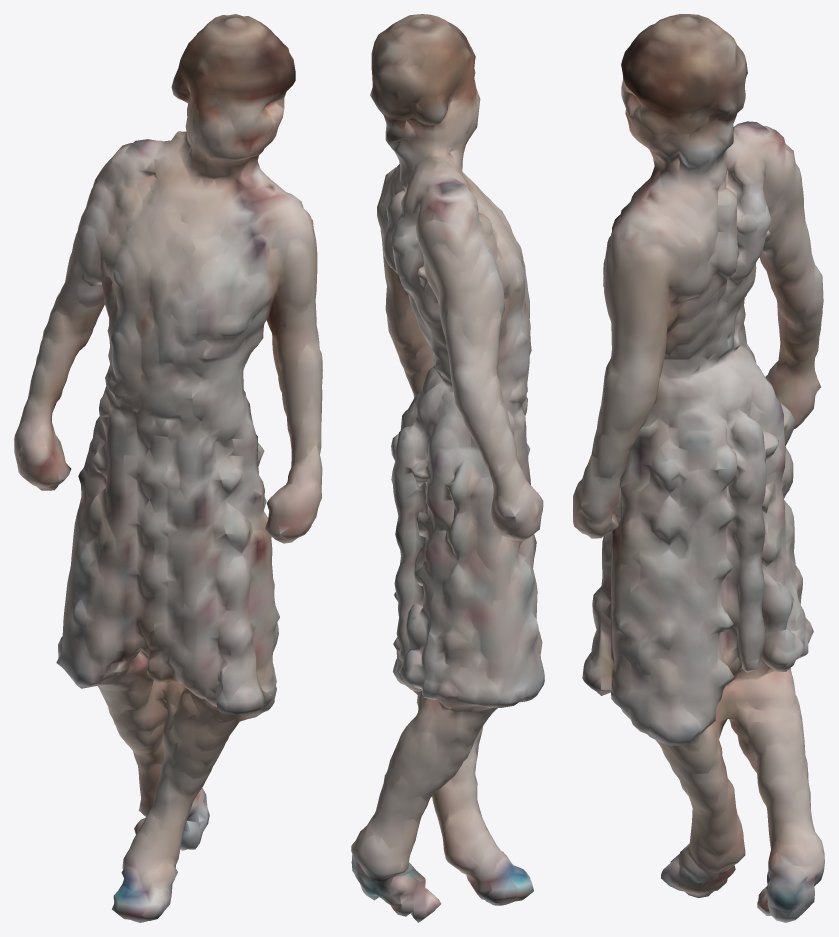
Rendered from real-person-demo.glb.
3 views of the same model, side by side, from view 1: azimuth 30°, elevation 25°; view 2: azimuth 150°, elevation 25°; view 3: azimuth 270°, elevation 25° (orthographic). The views are drawn at different scales.
Parts seen in each view (by area): view 1: world; view 2: world; view 3: world.
Part boxes in pixels (bbox=[...]): world: bbox=[14, 14, 322, 922]; world: bbox=[351, 14, 544, 922]; world: bbox=[573, 14, 824, 922].
Bounding box in the file's own units: 0.2554 × 0.9515 × 0.236.
